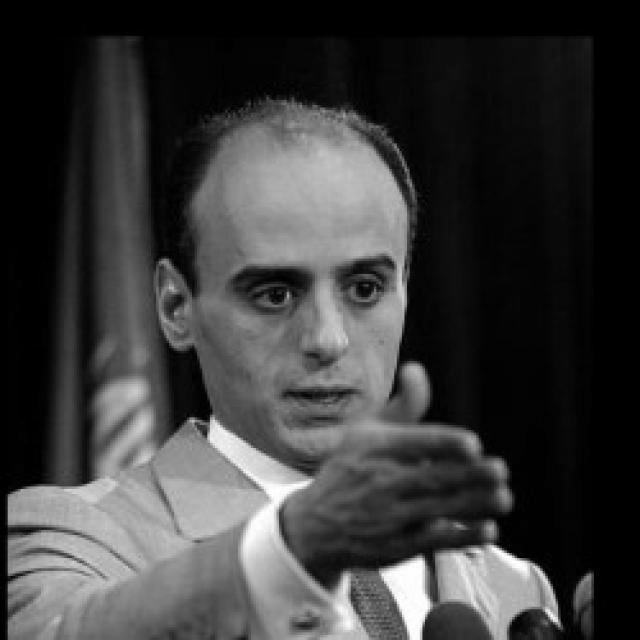real: (142, 118, 472, 467), (219, 248, 399, 317)
